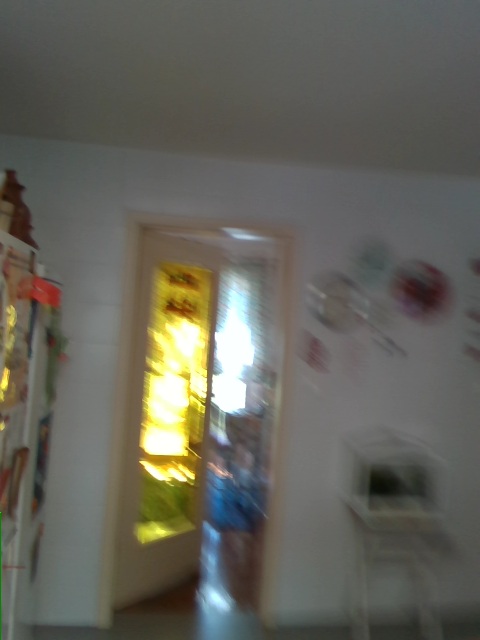semi: (96, 208, 295, 633)
